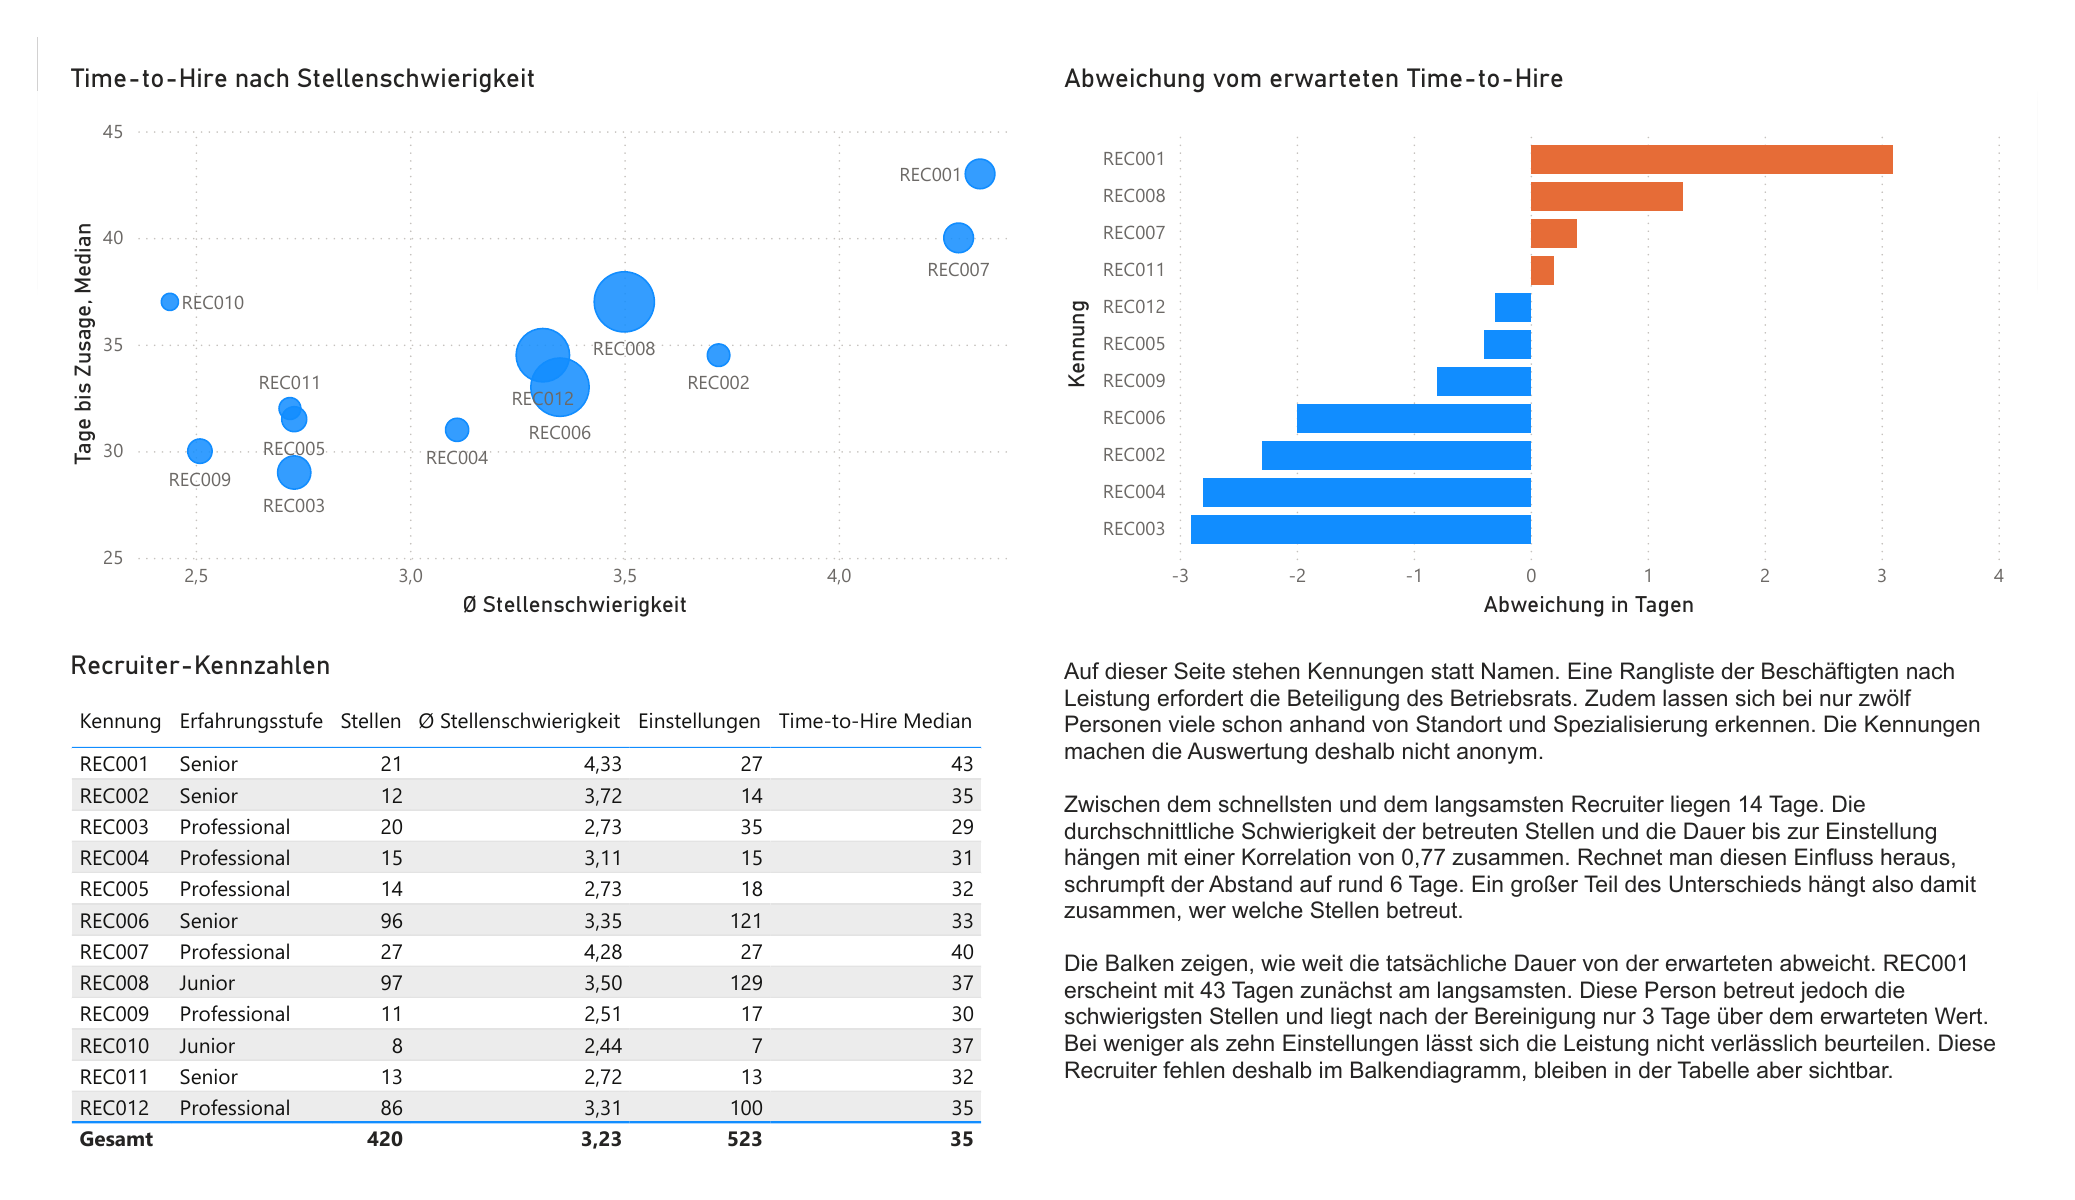

This screenshot's page, from the dashboard's own definition file:
{"tool":"powerbi","page":{"name":"Recruiter","canvas":[1280,720],"ordinal":3},"visuals":[{"type":"scatterChart","title":"Time-to-Hire nach Stellenschwierigkeit","fields":{"Category":["fact_recruiter_performance.recruiter_id"],"Size":["Sum(fact_recruiter_performance.hires)"],"X":["Avg(fact_recruiter_performance.avg_difficulty)"],"Y":["Avg(fact_recruiter_performance.median_days_to_hire)"]},"box":[16,16,620,360],"z":0},{"type":"tableEx","title":"Recruiter-Kennzahlen","fields":{"Values":["dim_recruiter.recruiter_id","dim_recruiter.experience_level","Sum(dim_recruiter.jobs_owned)","Avg(dim_recruiter.avg_difficulty)","fact_application.Einstellungen","fact_application.Time-to-Hire Median"]},"box":[15.6,392,620,327.8],"z":1000},{"type":"barChart","title":"Abweichung vom erwarteten Time-to-Hire","fields":{"Category":["fact_recruiter_performance.recruiter_id"],"Y":["Sum(fact_recruiter_performance.difference_days)"]},"box":[652,16,612,360],"z":2000},{"type":"textbox","box":[652,392,612,328],"z":3000}]}

Visuals, with their boxes on the page's 1280x720 design canvas (x1, y1, x2, y2). These are canvas units, not pixel positions in the 2075x1200 screenshot, which may show the page scaled, cropped or inside an application window:
"Time-to-Hire nach Stellenschwierigkeit" scatterChart: pyautogui.locateOnScreen(16, 16, 636, 376)
"Recruiter-Kennzahlen" tableEx: pyautogui.locateOnScreen(16, 392, 636, 720)
"Abweichung vom erwarteten Time-to-Hire" barChart: pyautogui.locateOnScreen(652, 16, 1264, 376)
textbox: pyautogui.locateOnScreen(652, 392, 1264, 720)
